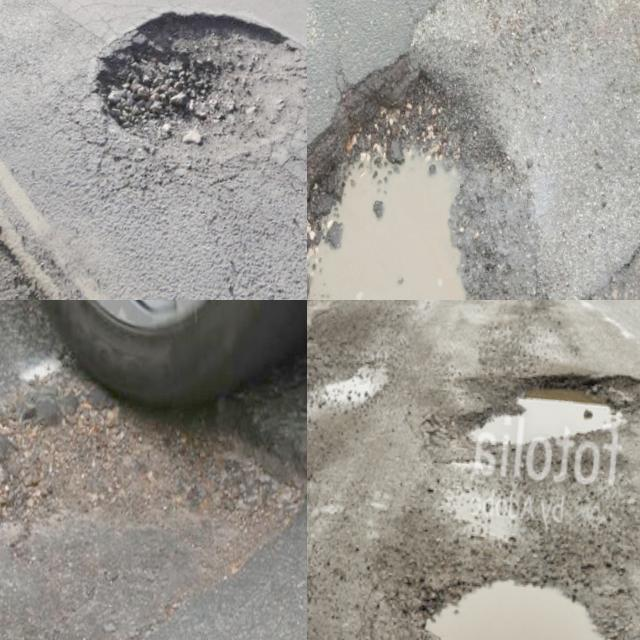Potholes: (0, 300, 307, 640), (15, 0, 307, 286), (307, 10, 585, 300), (393, 300, 640, 550), (381, 510, 640, 640), (307, 312, 430, 472), (432, 300, 540, 324)
